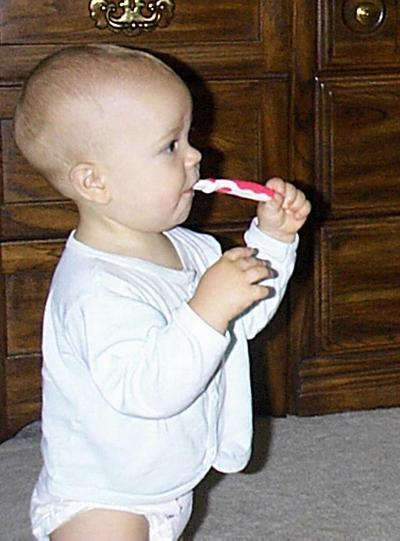person: (14, 44, 312, 540)
